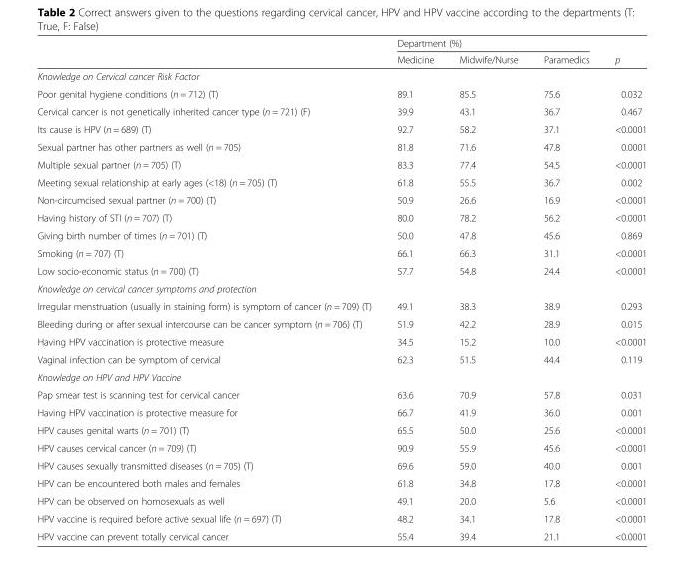table: (36, 36, 646, 541)
table column: (36, 36, 383, 541), (446, 36, 530, 541), (530, 36, 601, 541), (383, 36, 446, 541), (601, 36, 646, 541)
table column header: (36, 36, 646, 67)
table projected row header: (36, 279, 646, 297), (36, 67, 646, 84), (36, 368, 646, 385)
table row: (36, 84, 646, 102), (36, 102, 646, 120), (36, 137, 646, 155), (36, 155, 646, 173), (36, 190, 646, 208), (36, 208, 646, 226), (36, 226, 646, 244), (36, 261, 646, 279), (36, 279, 646, 297), (36, 314, 646, 332), (36, 332, 646, 350), (36, 350, 646, 368), (36, 385, 646, 403), (36, 403, 646, 421), (36, 438, 646, 456), (36, 456, 646, 474), (36, 491, 646, 509), (36, 509, 646, 527), (36, 50, 646, 67), (36, 67, 646, 84), (36, 120, 646, 137), (36, 173, 646, 190), (36, 244, 646, 261), (36, 297, 646, 314), (36, 368, 646, 385), (36, 421, 646, 438), (36, 474, 646, 491), (36, 36, 646, 50), (36, 527, 646, 541)
table spanning cell: (383, 36, 601, 50), (601, 36, 646, 67)
